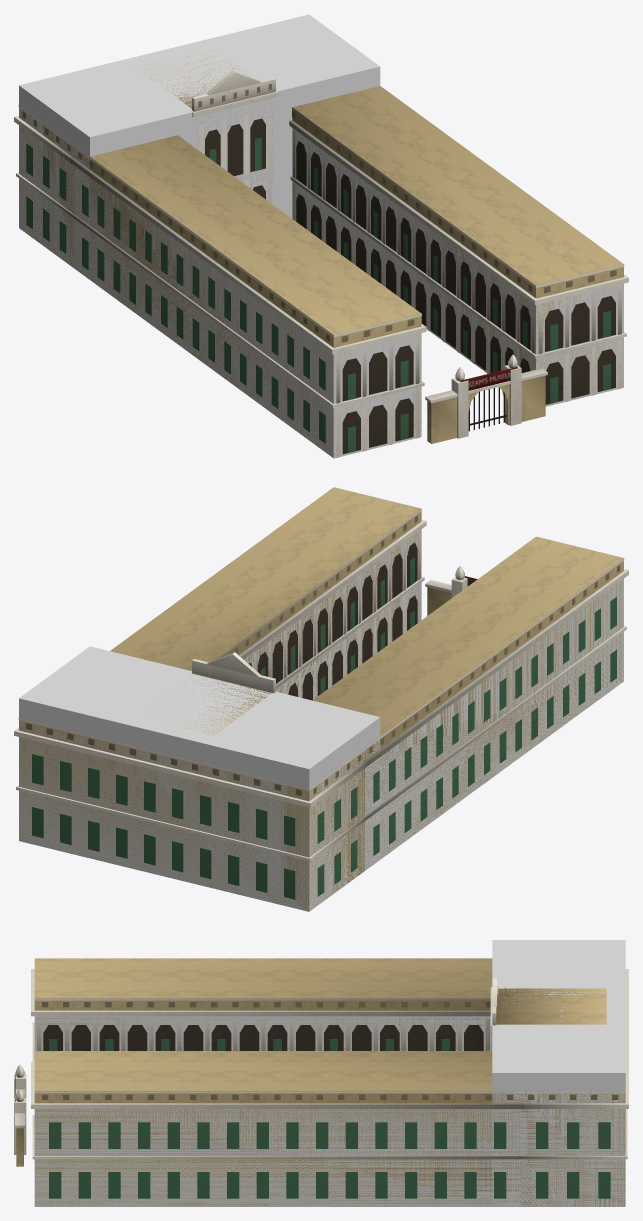
File: purani_haveli.glb
3 views of the same model, one above another, from view 1: azimuth 30°, elevation 25°; view 2: azimuth 150°, elevation 25°; view 3: azimuth 270°, elevation 25° (orthographic). The views are drawn at different scales.
Parts seen in each view (by area): view 1: purani_haveli_body, COL_purani_haveli; view 2: purani_haveli_body, COL_purani_haveli; view 3: purani_haveli_body, COL_purani_haveli.
Boxes of the visible parts, x1,y1,x2,y2 form: purani_haveli_body: (14, 50, 628, 457); COL_purani_haveli: (19, 14, 623, 458); purani_haveli_body: (14, 487, 628, 911); COL_purani_haveli: (19, 529, 623, 911); purani_haveli_body: (14, 958, 628, 1206); COL_purani_haveli: (34, 940, 625, 1206).
Size of the model in its own units: 67.4 by 37.4 by 129.
8 materials, 8 textured.
